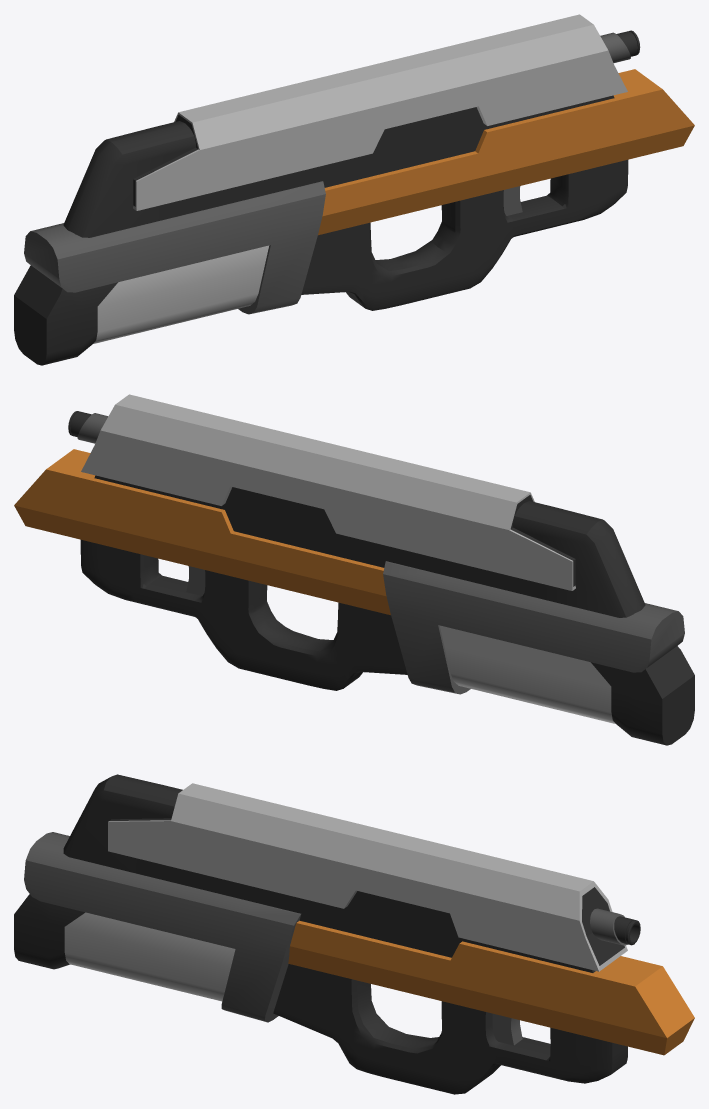
3 views of the same model, one above another, from view 1: azimuth 30°, elevation 25°; view 2: azimuth 150°, elevation 25°; view 3: azimuth 330°, elevation 25° (orthographic).
Parts seen in each view (by area): view 1: AR_5; view 2: AR_5; view 3: AR_5.
Boxes of the visible parts, x1,y1,x2,y2 form: AR_5: (14, 14, 694, 365); AR_5: (14, 394, 694, 745); AR_5: (14, 774, 694, 1094).
Size of the model in its own units: 1.57 by 0.5377 by 0.1478.
